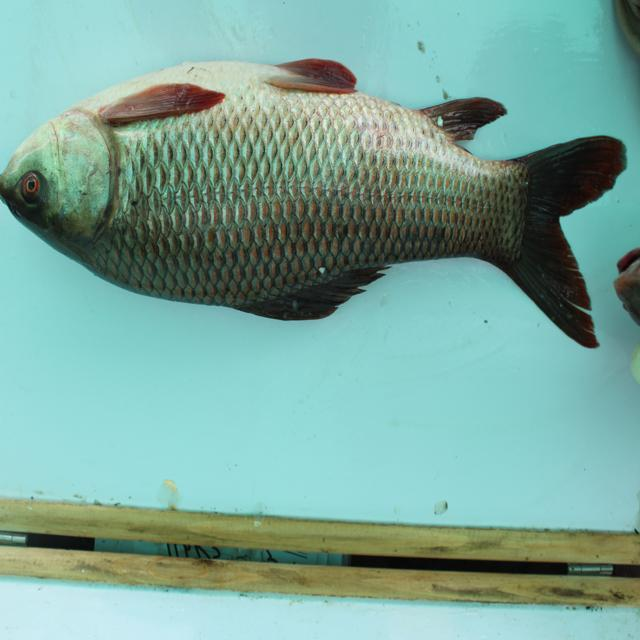Rohu: (14, 53, 640, 365)
